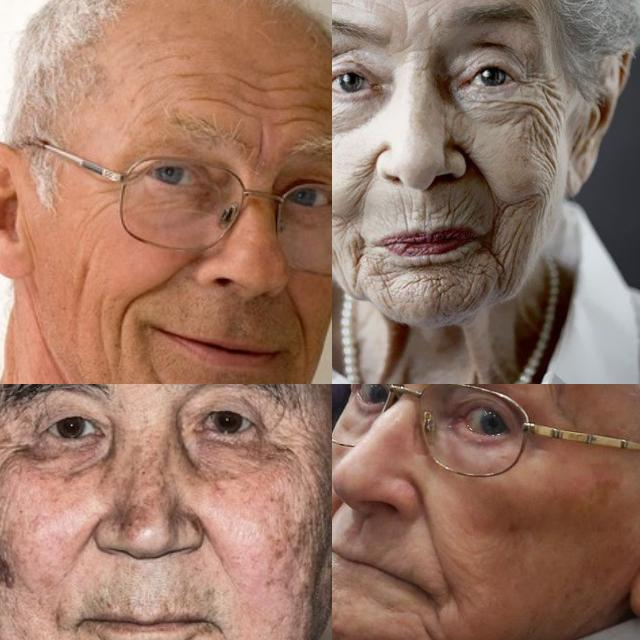chin: (414, 276, 464, 310), (368, 263, 396, 309)
crows_feet: (259, 412, 303, 460), (88, 177, 118, 226), (0, 426, 30, 461), (522, 64, 548, 96)
forehead: (286, 76, 330, 130), (162, 57, 210, 89), (224, 65, 270, 98), (236, 95, 280, 128), (181, 86, 227, 112), (332, 0, 381, 10)
frown_line: (247, 123, 269, 169), (394, 36, 434, 58), (398, 6, 417, 44)
gummy_smile: (421, 502, 449, 576), (465, 150, 503, 204), (280, 292, 314, 346), (119, 276, 165, 314), (352, 153, 378, 211), (105, 316, 132, 358), (332, 499, 343, 537)
masseter: (530, 108, 564, 166), (72, 250, 96, 308), (518, 195, 542, 245)
sad_smile: (419, 595, 453, 640), (481, 238, 507, 290), (347, 237, 367, 289)
smoker_lines: (381, 192, 473, 225)
